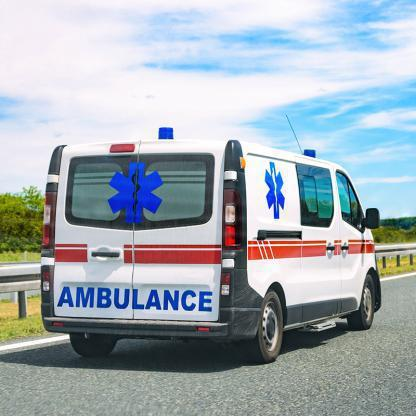Ambulance - v1 Ambulance last generate: (41, 128, 394, 361)
